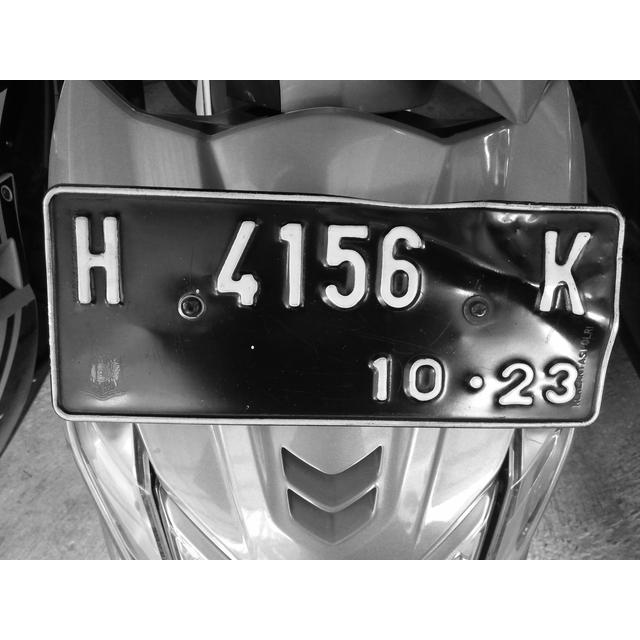license: (64, 202, 592, 410)
